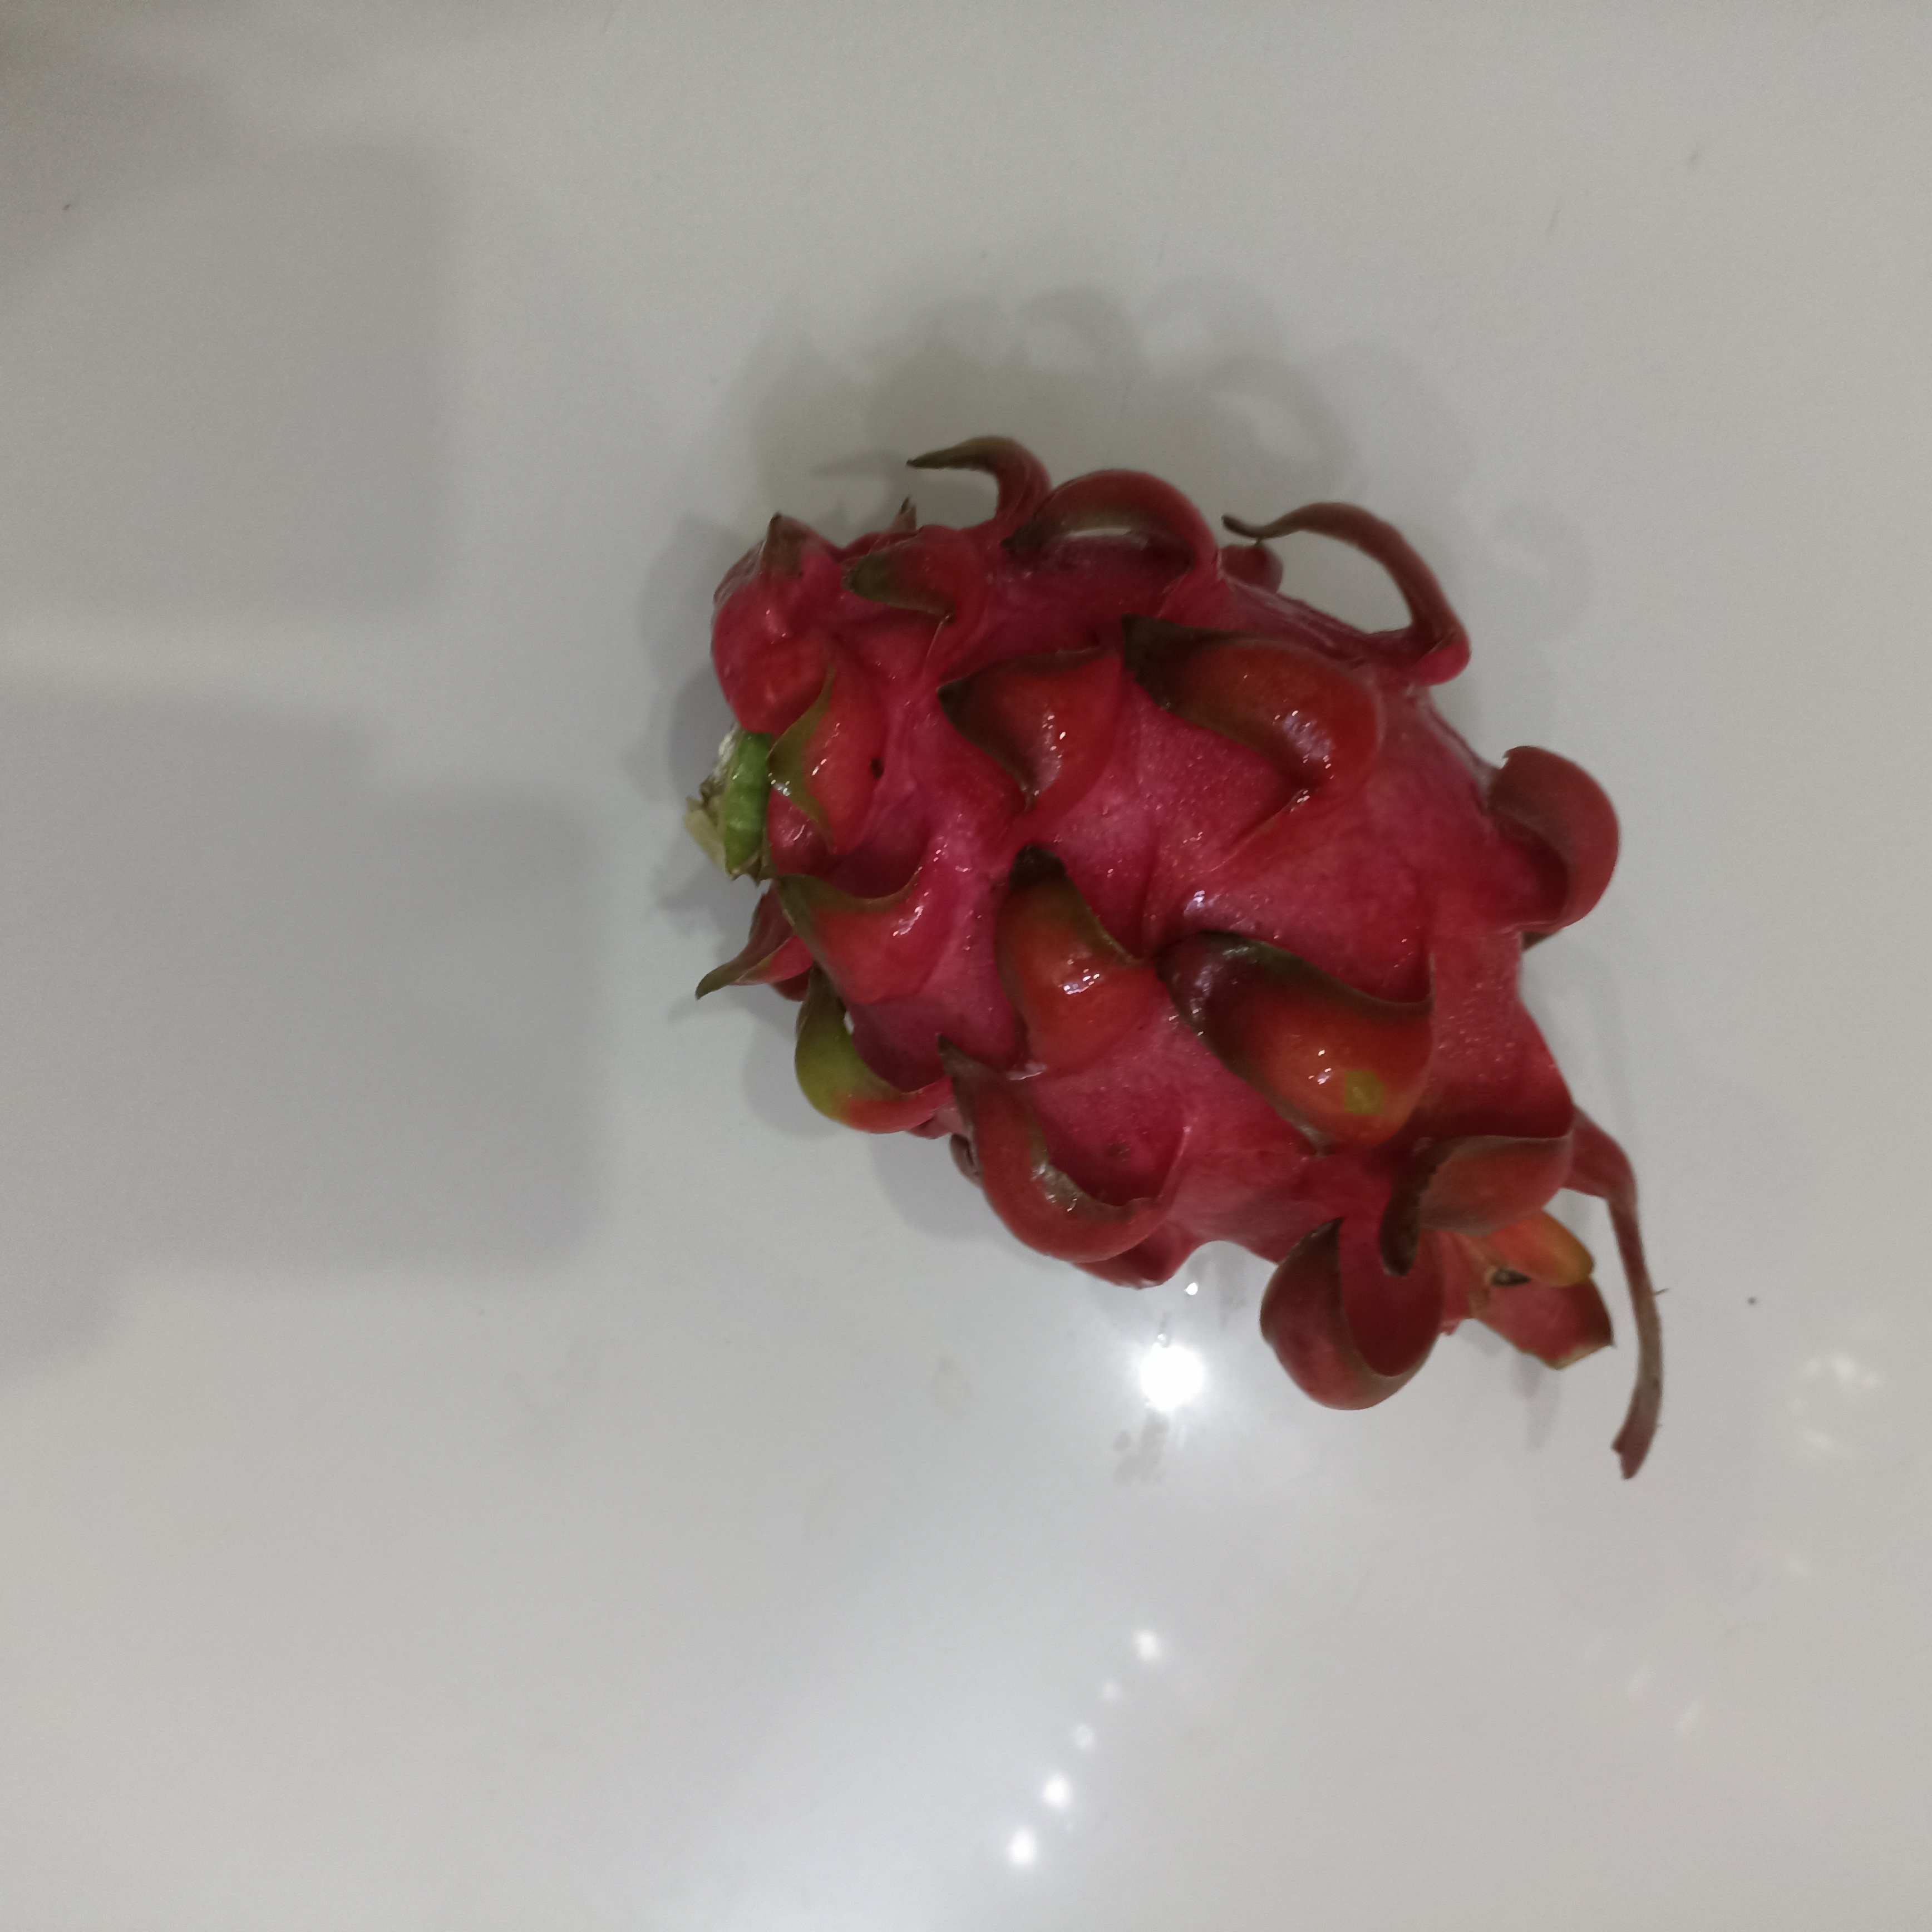Thanh long: (720, 510, 1615, 1345)
